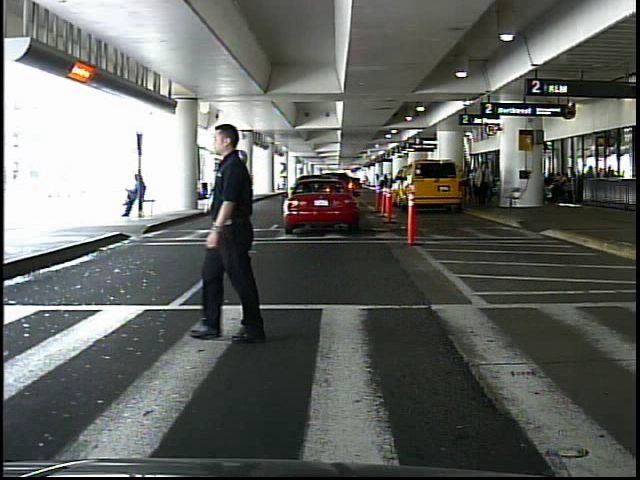person: (179, 123, 309, 346), (476, 161, 494, 209)
